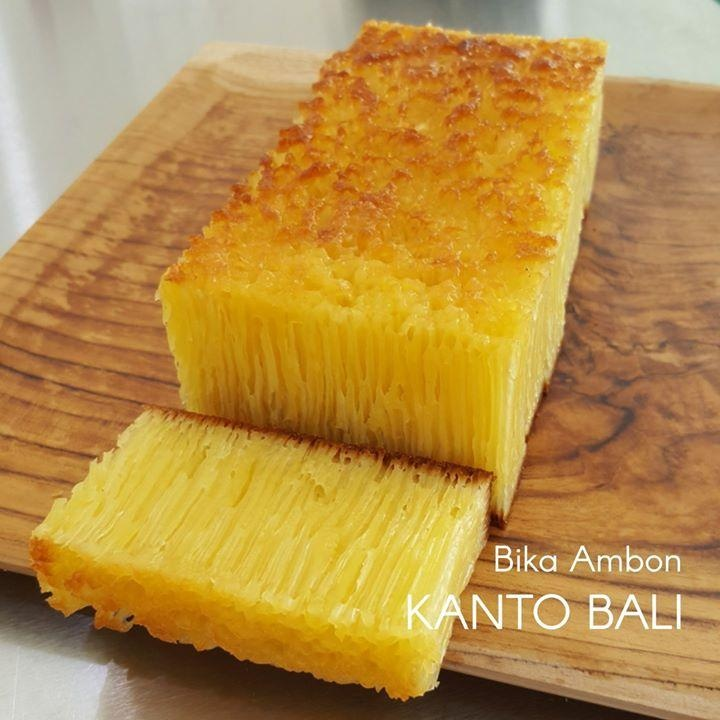bika_ambon: (18, 414, 468, 681), (144, 269, 516, 536)
